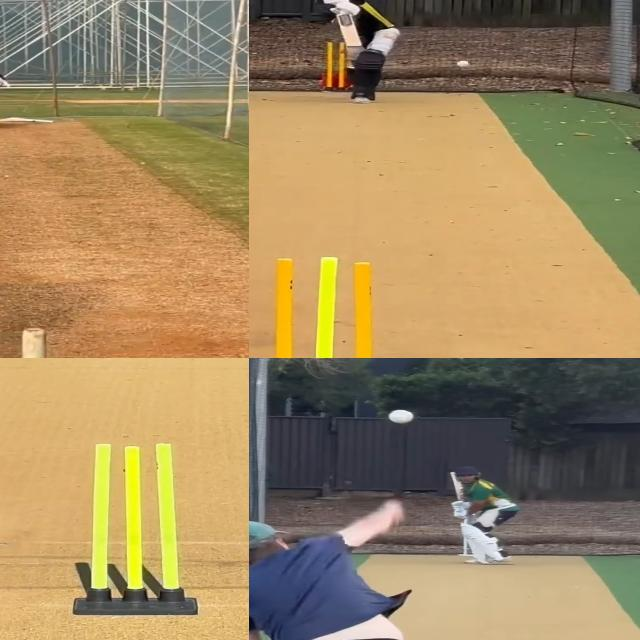Cricket ball: (382, 406, 420, 427), (456, 59, 473, 70)
Stumps: (73, 440, 199, 615), (258, 252, 392, 358)
